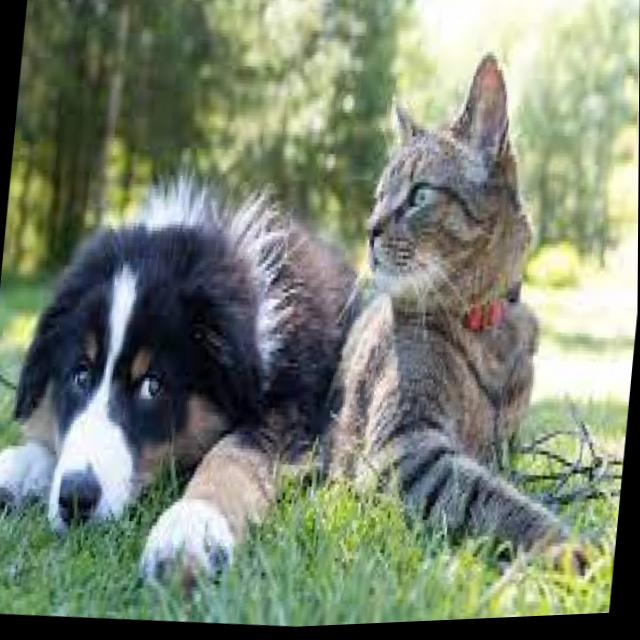Cat: (335, 30, 581, 566)
Dog: (0, 158, 360, 609)
